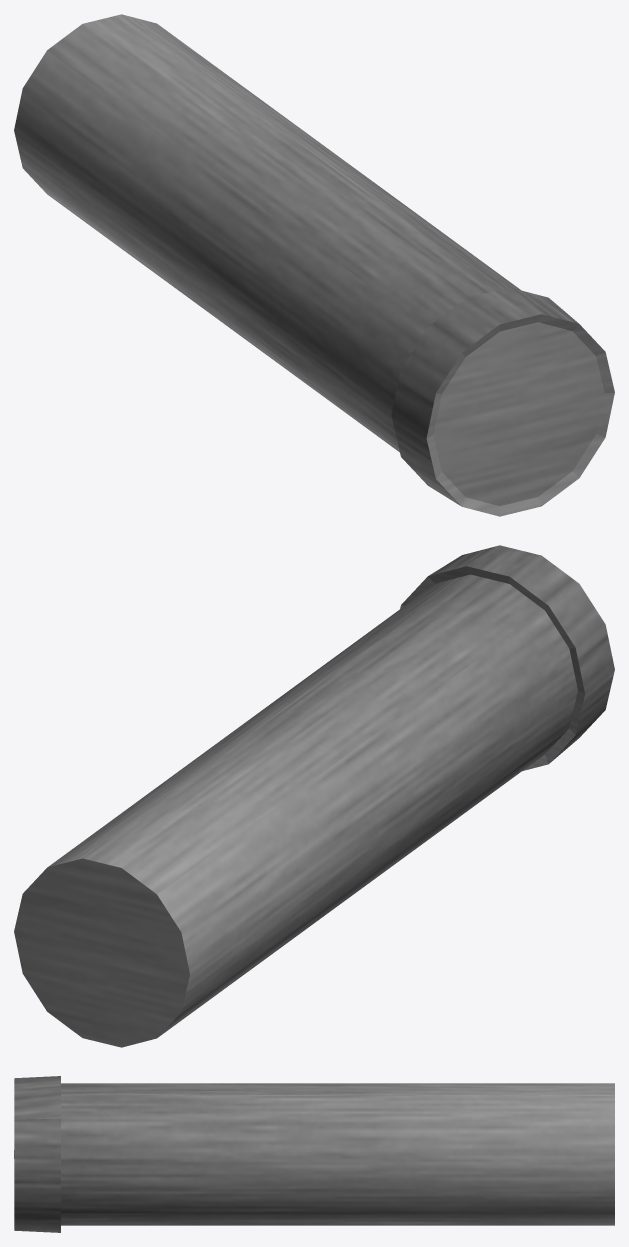
The model's file is pipe-cap-1x4.fbx.
3 views of the same model, one above another, from view 1: azimuth 30°, elevation 25°; view 2: azimuth 150°, elevation 25°; view 3: azimuth 270°, elevation 25° (orthographic). The views are drawn at different scales.
Visible parts, largest first — view 1: pipe_1x7; view 2: pipe_1x7; view 3: pipe_1x7.
Part boxes in pixels (x1,y1,x2,y2): pipe_1x7: [14, 14, 614, 516]; pipe_1x7: [14, 545, 614, 1047]; pipe_1x7: [14, 1076, 614, 1232].
Bounding box in the file's own units: 106 × 104 × 398.
